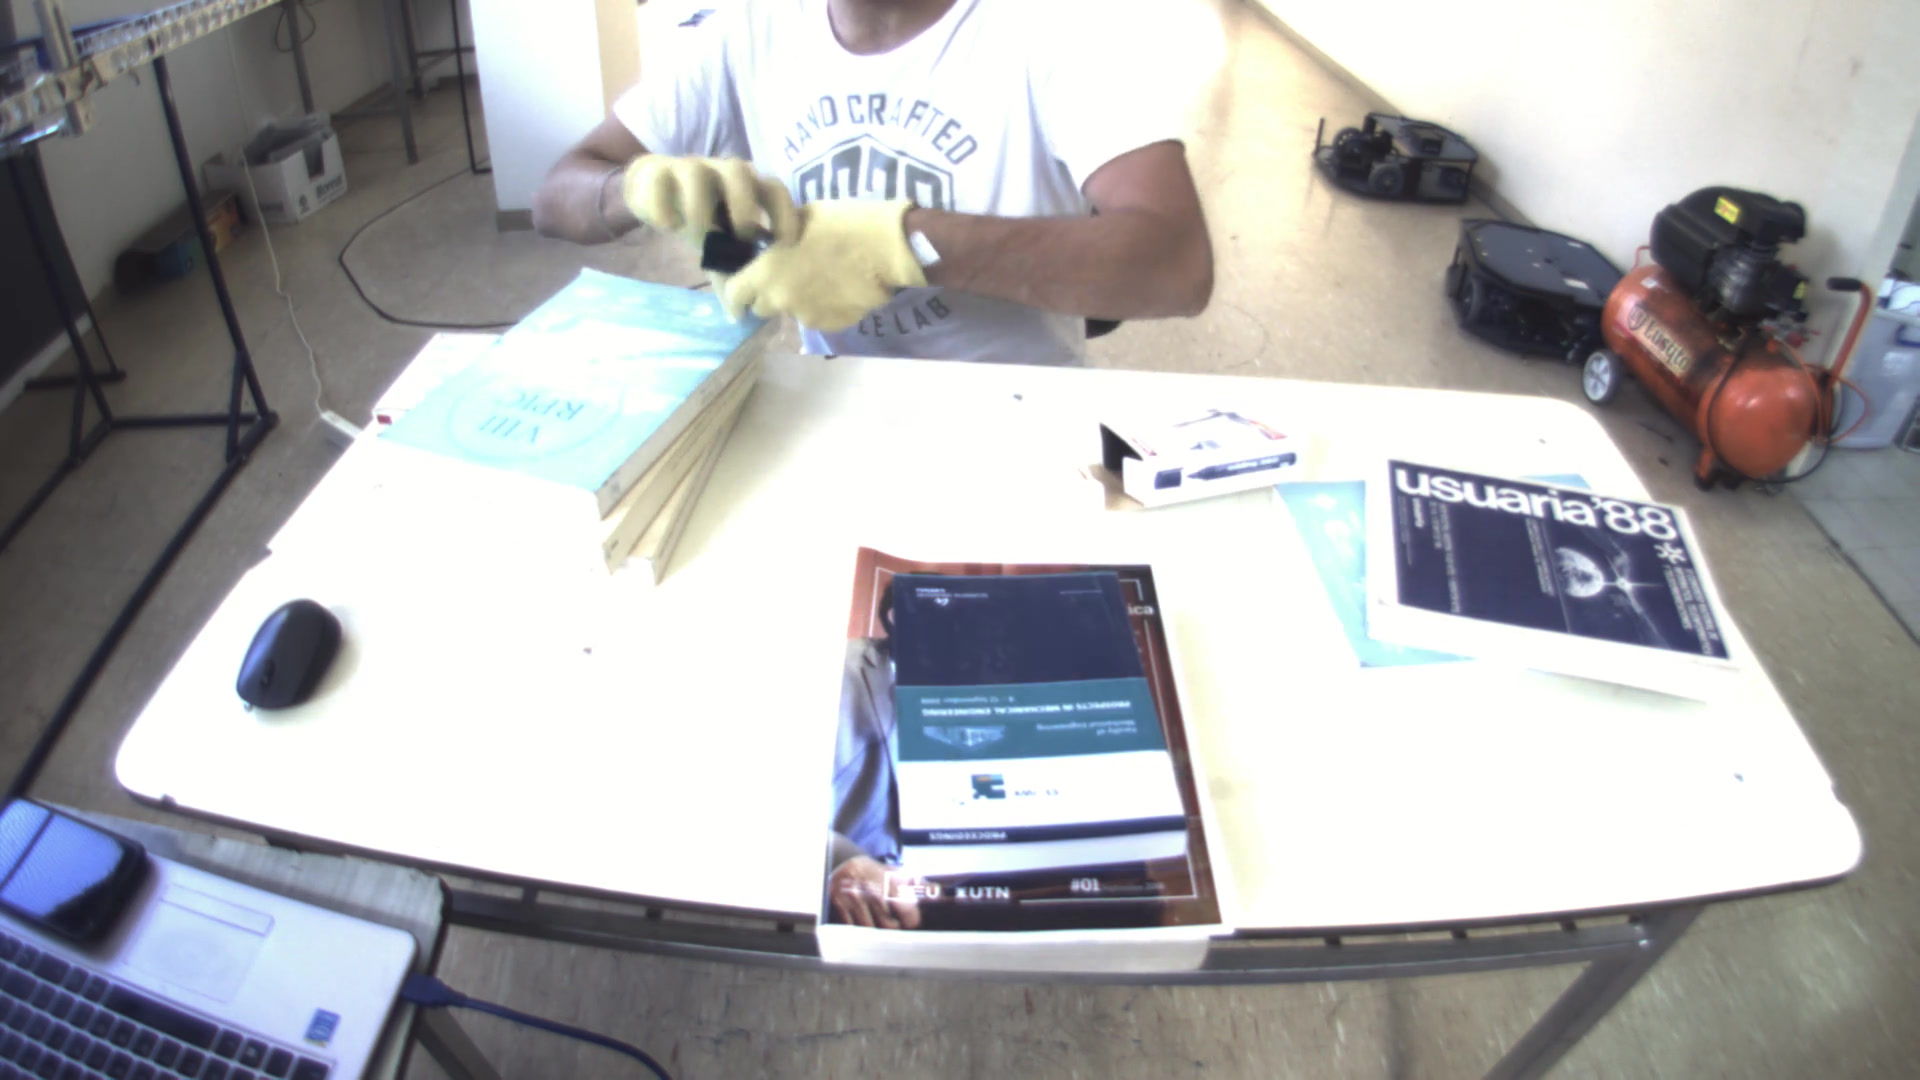hand: (717, 191, 924, 334), (624, 135, 798, 248)
